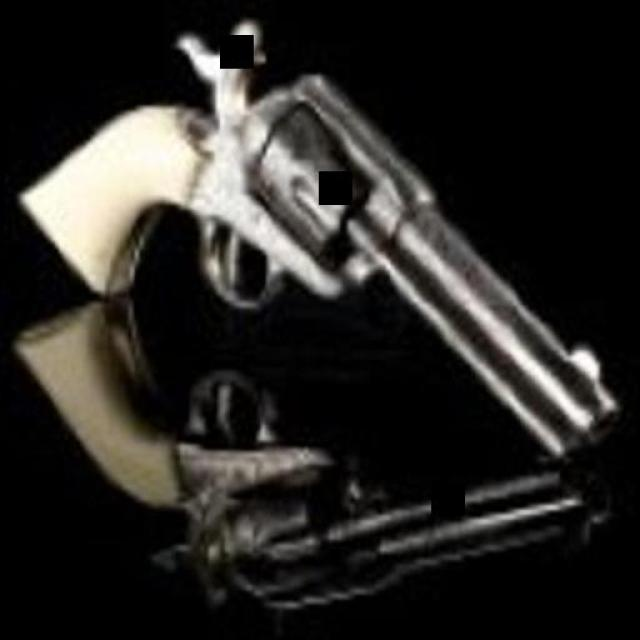gun: (1, 4, 629, 478)
